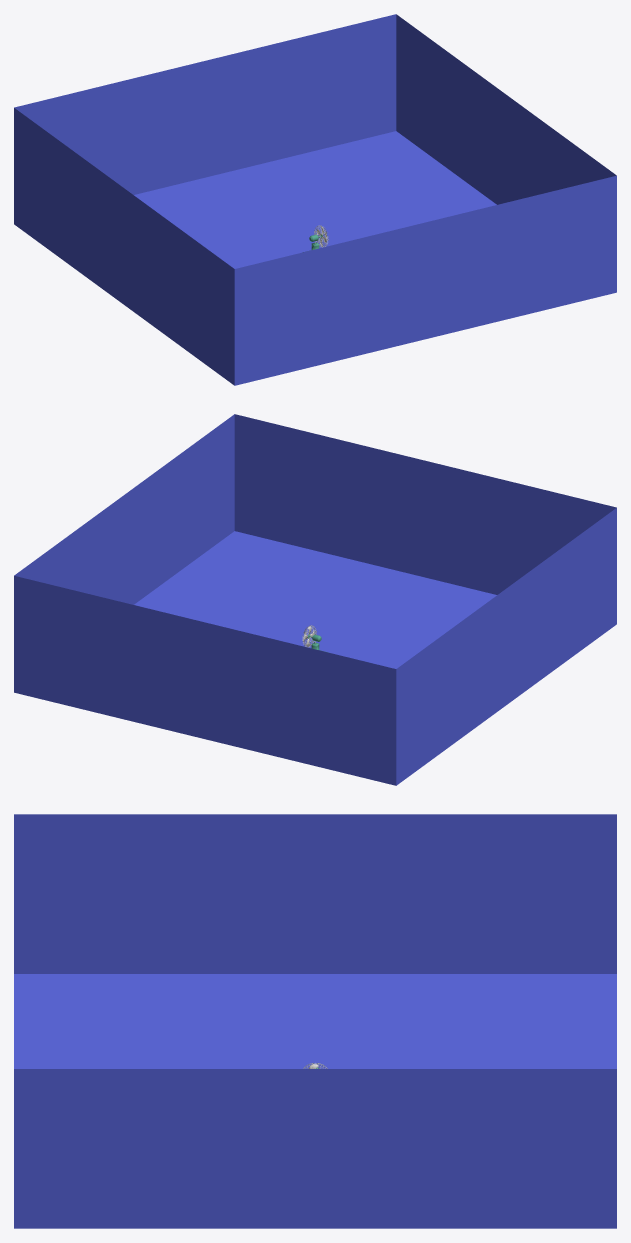
File: fan.glb
3 views of the same model, one above another, from view 1: azimuth 30°, elevation 25°; view 2: azimuth 150°, elevation 25°; view 3: azimuth 270°, elevation 25° (orthographic). The views are drawn at different scales.
Visible parts, largest first — view 1: Plane.004; view 2: Plane.004; view 3: Plane.004.
Part boxes in pixels (bbox=[...]): Plane.004: bbox=[14, 14, 616, 385]; Plane.004: bbox=[14, 414, 616, 785]; Plane.004: bbox=[14, 814, 616, 1228].
Size of the model in its own units: 51.72 by 15.12 by 51.72.
